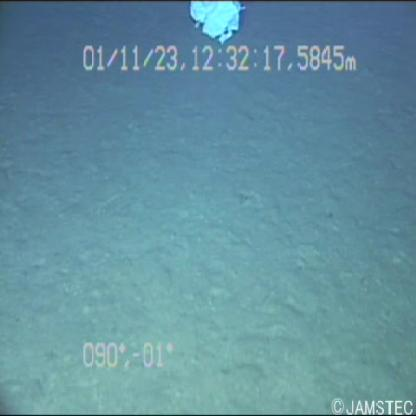Rác: (184, 1, 248, 45)
